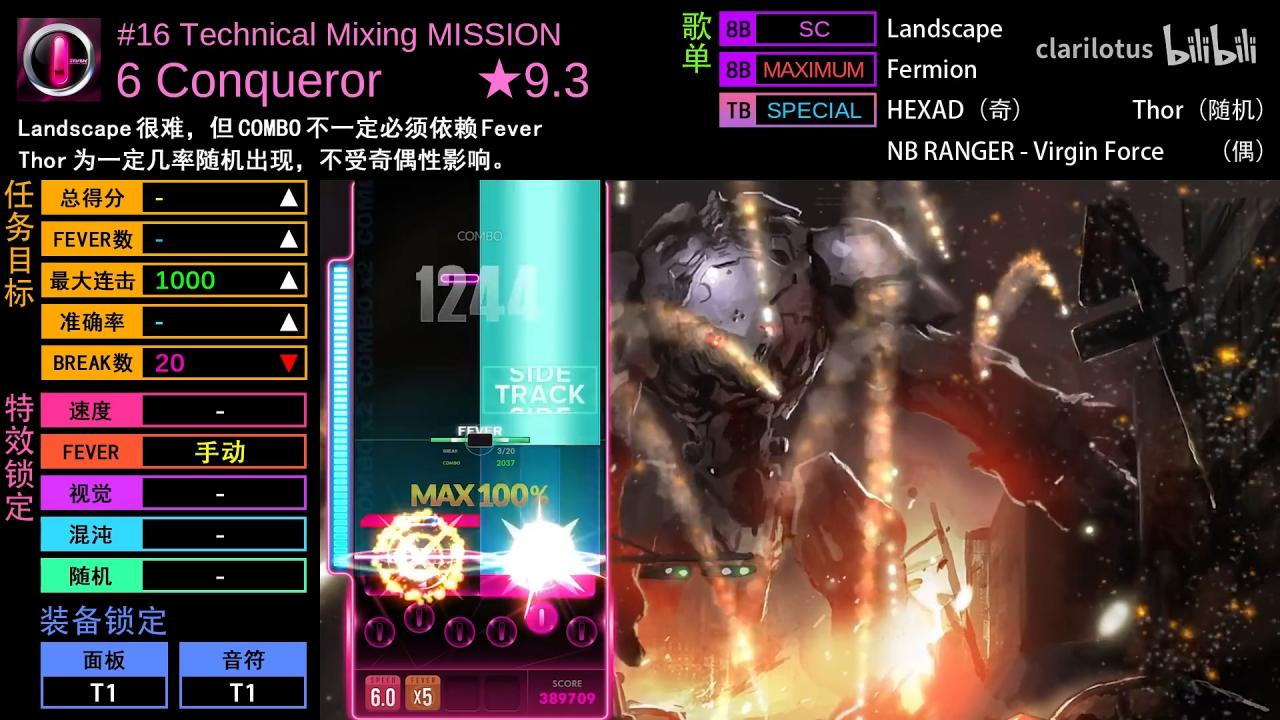note: (398, 516, 438, 528), (440, 273, 480, 284)
side-start: (480, 432, 600, 445)
xnote: (360, 514, 480, 527)
